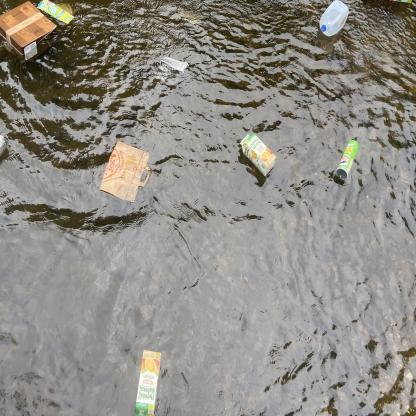trash: (0, 0, 60, 65), (100, 138, 152, 204), (133, 346, 164, 416), (236, 130, 278, 180), (334, 137, 362, 183), (318, 0, 351, 38), (36, 0, 76, 28), (158, 55, 191, 86), (0, 132, 8, 163), (390, 0, 414, 7)
